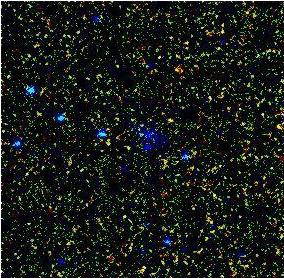star: (157, 108, 187, 138)
